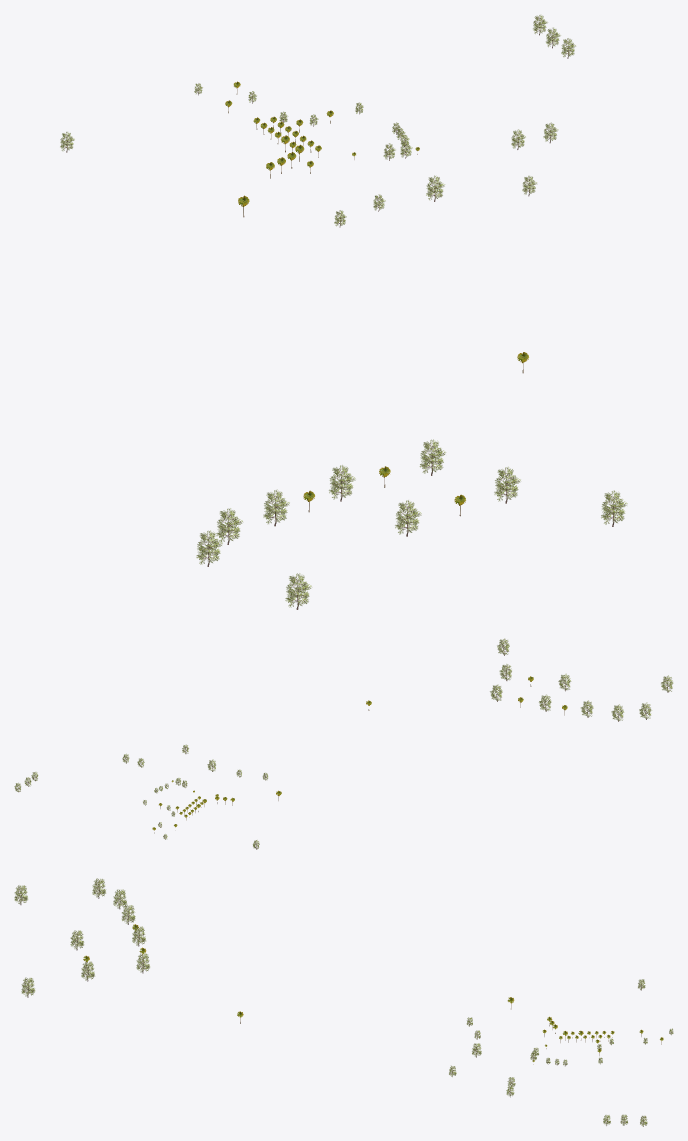
File: Soel_mini_env.glb
3 views of the same model, one above another, from view 1: azimuth 30°, elevation 25°; view 2: azimuth 150°, elevation 25°; view 3: azimuth 270°, elevation 25° (orthographic). The views are drawn at different scales.
Parts seen in each view (by area): view 1: plants_location; view 2: plants_location; view 3: plants_location.
Boxes of the visible parts, left/top/right/bottom form: plants_location: left=60, top=15, right=627, bottom=609; plants_location: left=14, top=638, right=673, bottom=849; plants_location: left=14, top=878, right=673, bottom=1126.
Size of the model in its own units: 797 by 34.89 by 952.
Materials: 3 (3 with a texture image).
